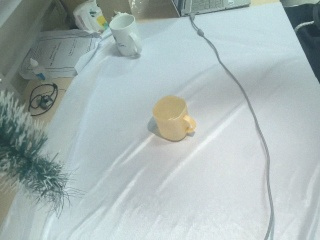cup: (151, 95, 197, 143), (106, 11, 144, 59)
